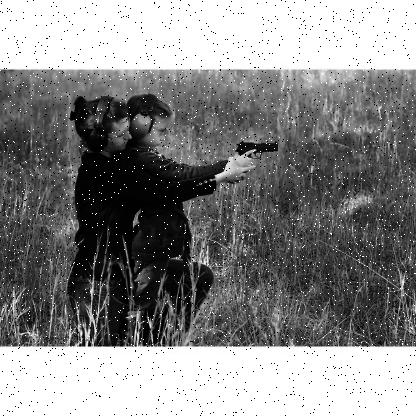gun: (232, 140, 276, 184)
